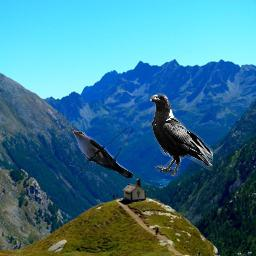Crow: (148, 93, 213, 176)
Cuckoo: (69, 128, 133, 178)
